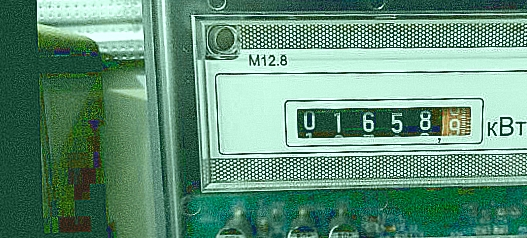0: (302, 108, 316, 130)
1: (332, 110, 343, 132)
5: (389, 109, 404, 133)
6: (360, 109, 375, 132)
8: (417, 107, 432, 130)
9: (445, 116, 460, 137)
screen: (278, 88, 491, 154)
